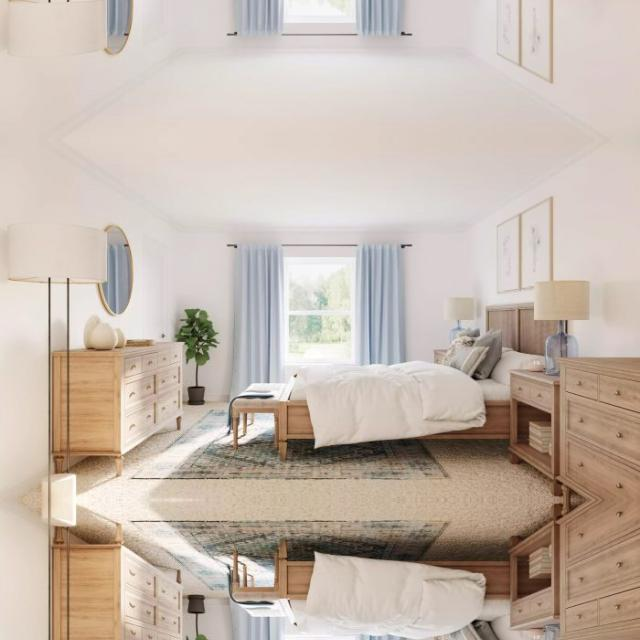bed: (280, 297, 566, 459), (280, 539, 564, 640)
dresser: (53, 339, 185, 477), (53, 521, 185, 640)
lamp: (8, 221, 110, 498), (8, 0, 110, 57), (46, 500, 75, 640)
